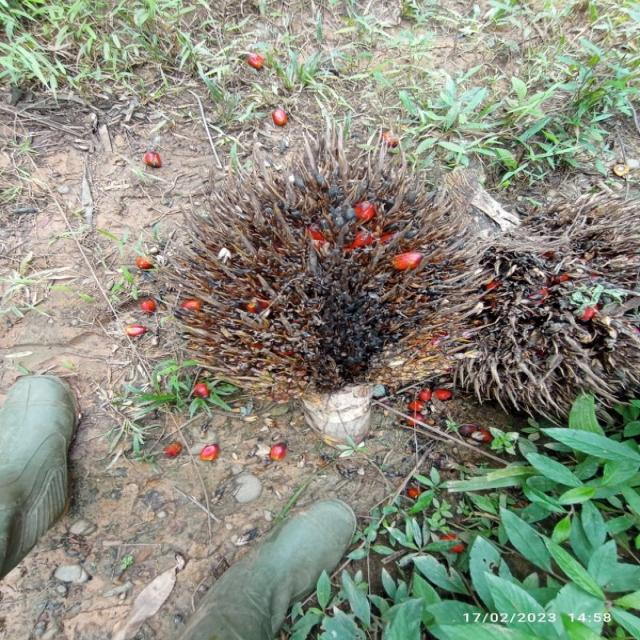fraksi 4: (113, 110, 521, 471)
